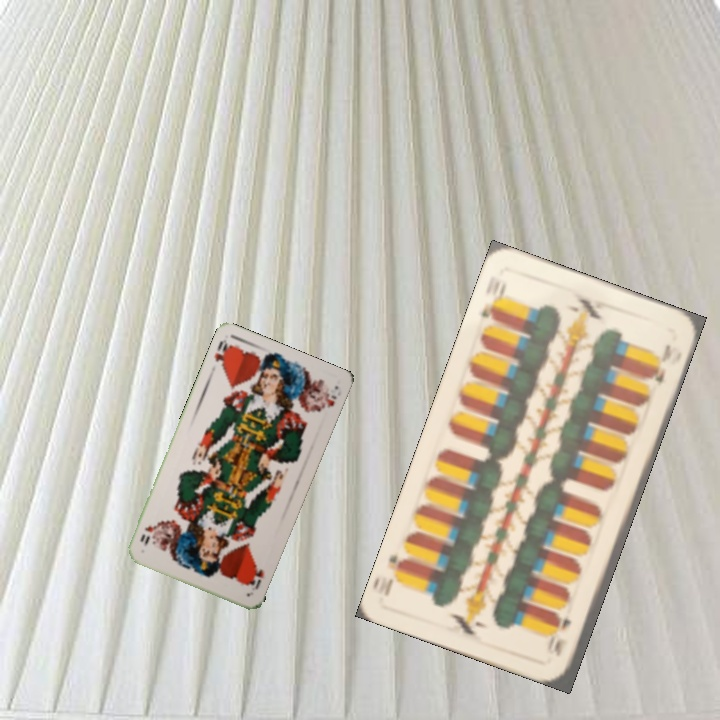E10: (476, 279, 507, 324), (550, 613, 574, 660)
HO: (210, 336, 234, 373), (244, 561, 267, 593)
